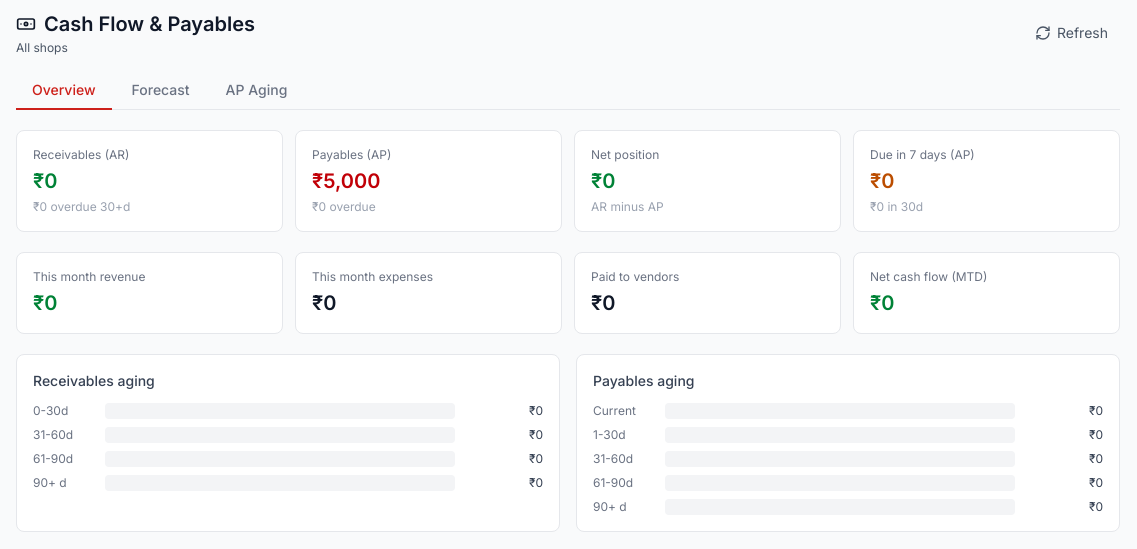
Test case: the page says which shop its payables cover (#21) › reads "All shops" under the title and on AP Aging when the server answers every shop
This screenshot has width=1137, height=549.
Check: the text with test id "payables-shop" reads "All shops", box [16,40,68,55]
Click the button "AP Aging" at x=256, y=91, box [210,72,303,110]
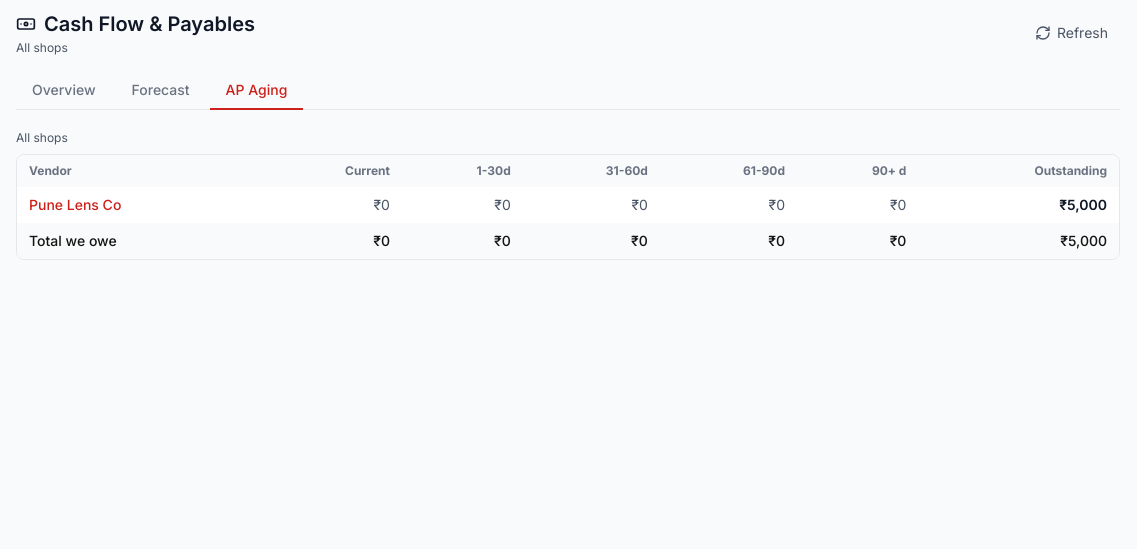
Check: the text with test id "aging-shop" reads "All shops", box [16,130,68,145]
